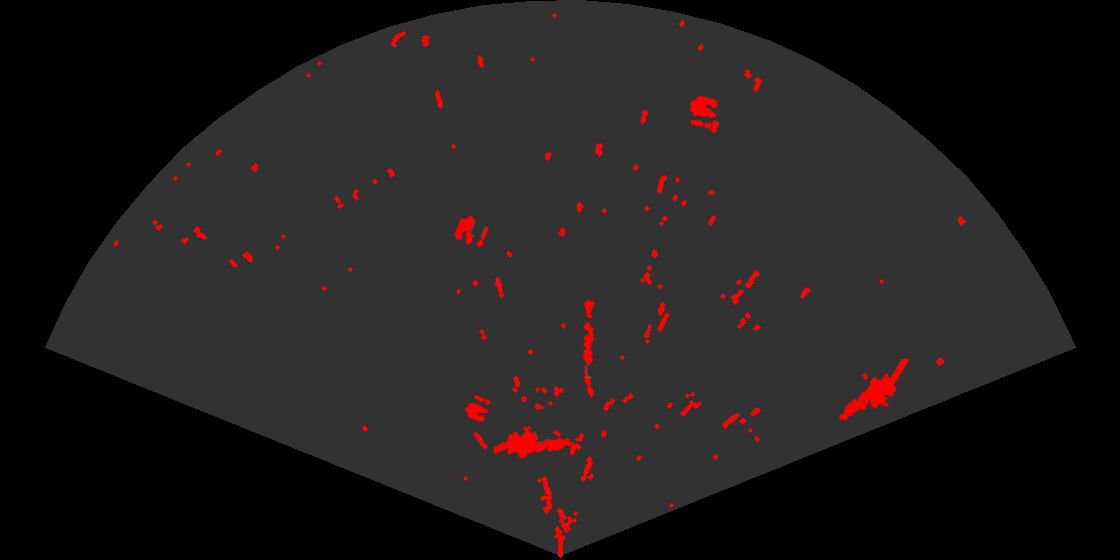ball: (453, 214, 490, 249), (688, 94, 720, 130), (464, 394, 492, 424)
chain: (582, 298, 596, 399)
frogman: (837, 359, 909, 422), (494, 425, 574, 460)
